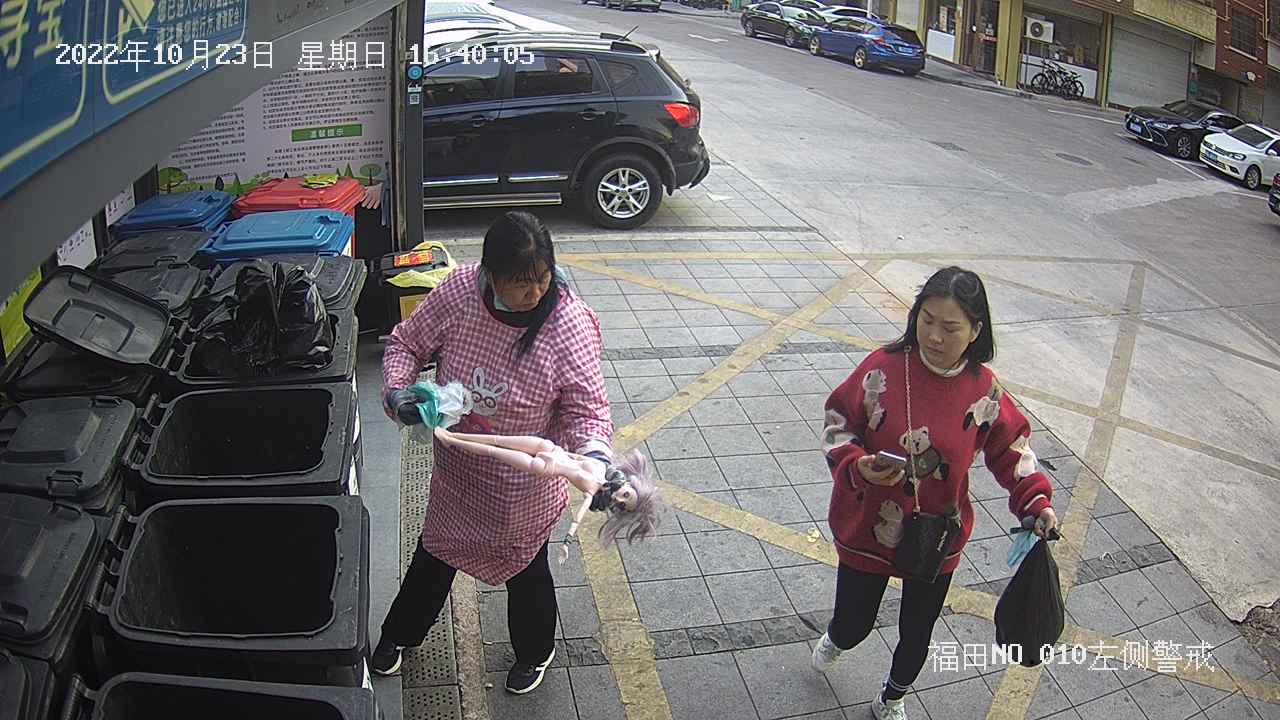garbage-bag: (990, 528, 1067, 673)
person: (362, 208, 621, 701), (803, 260, 1068, 720)
